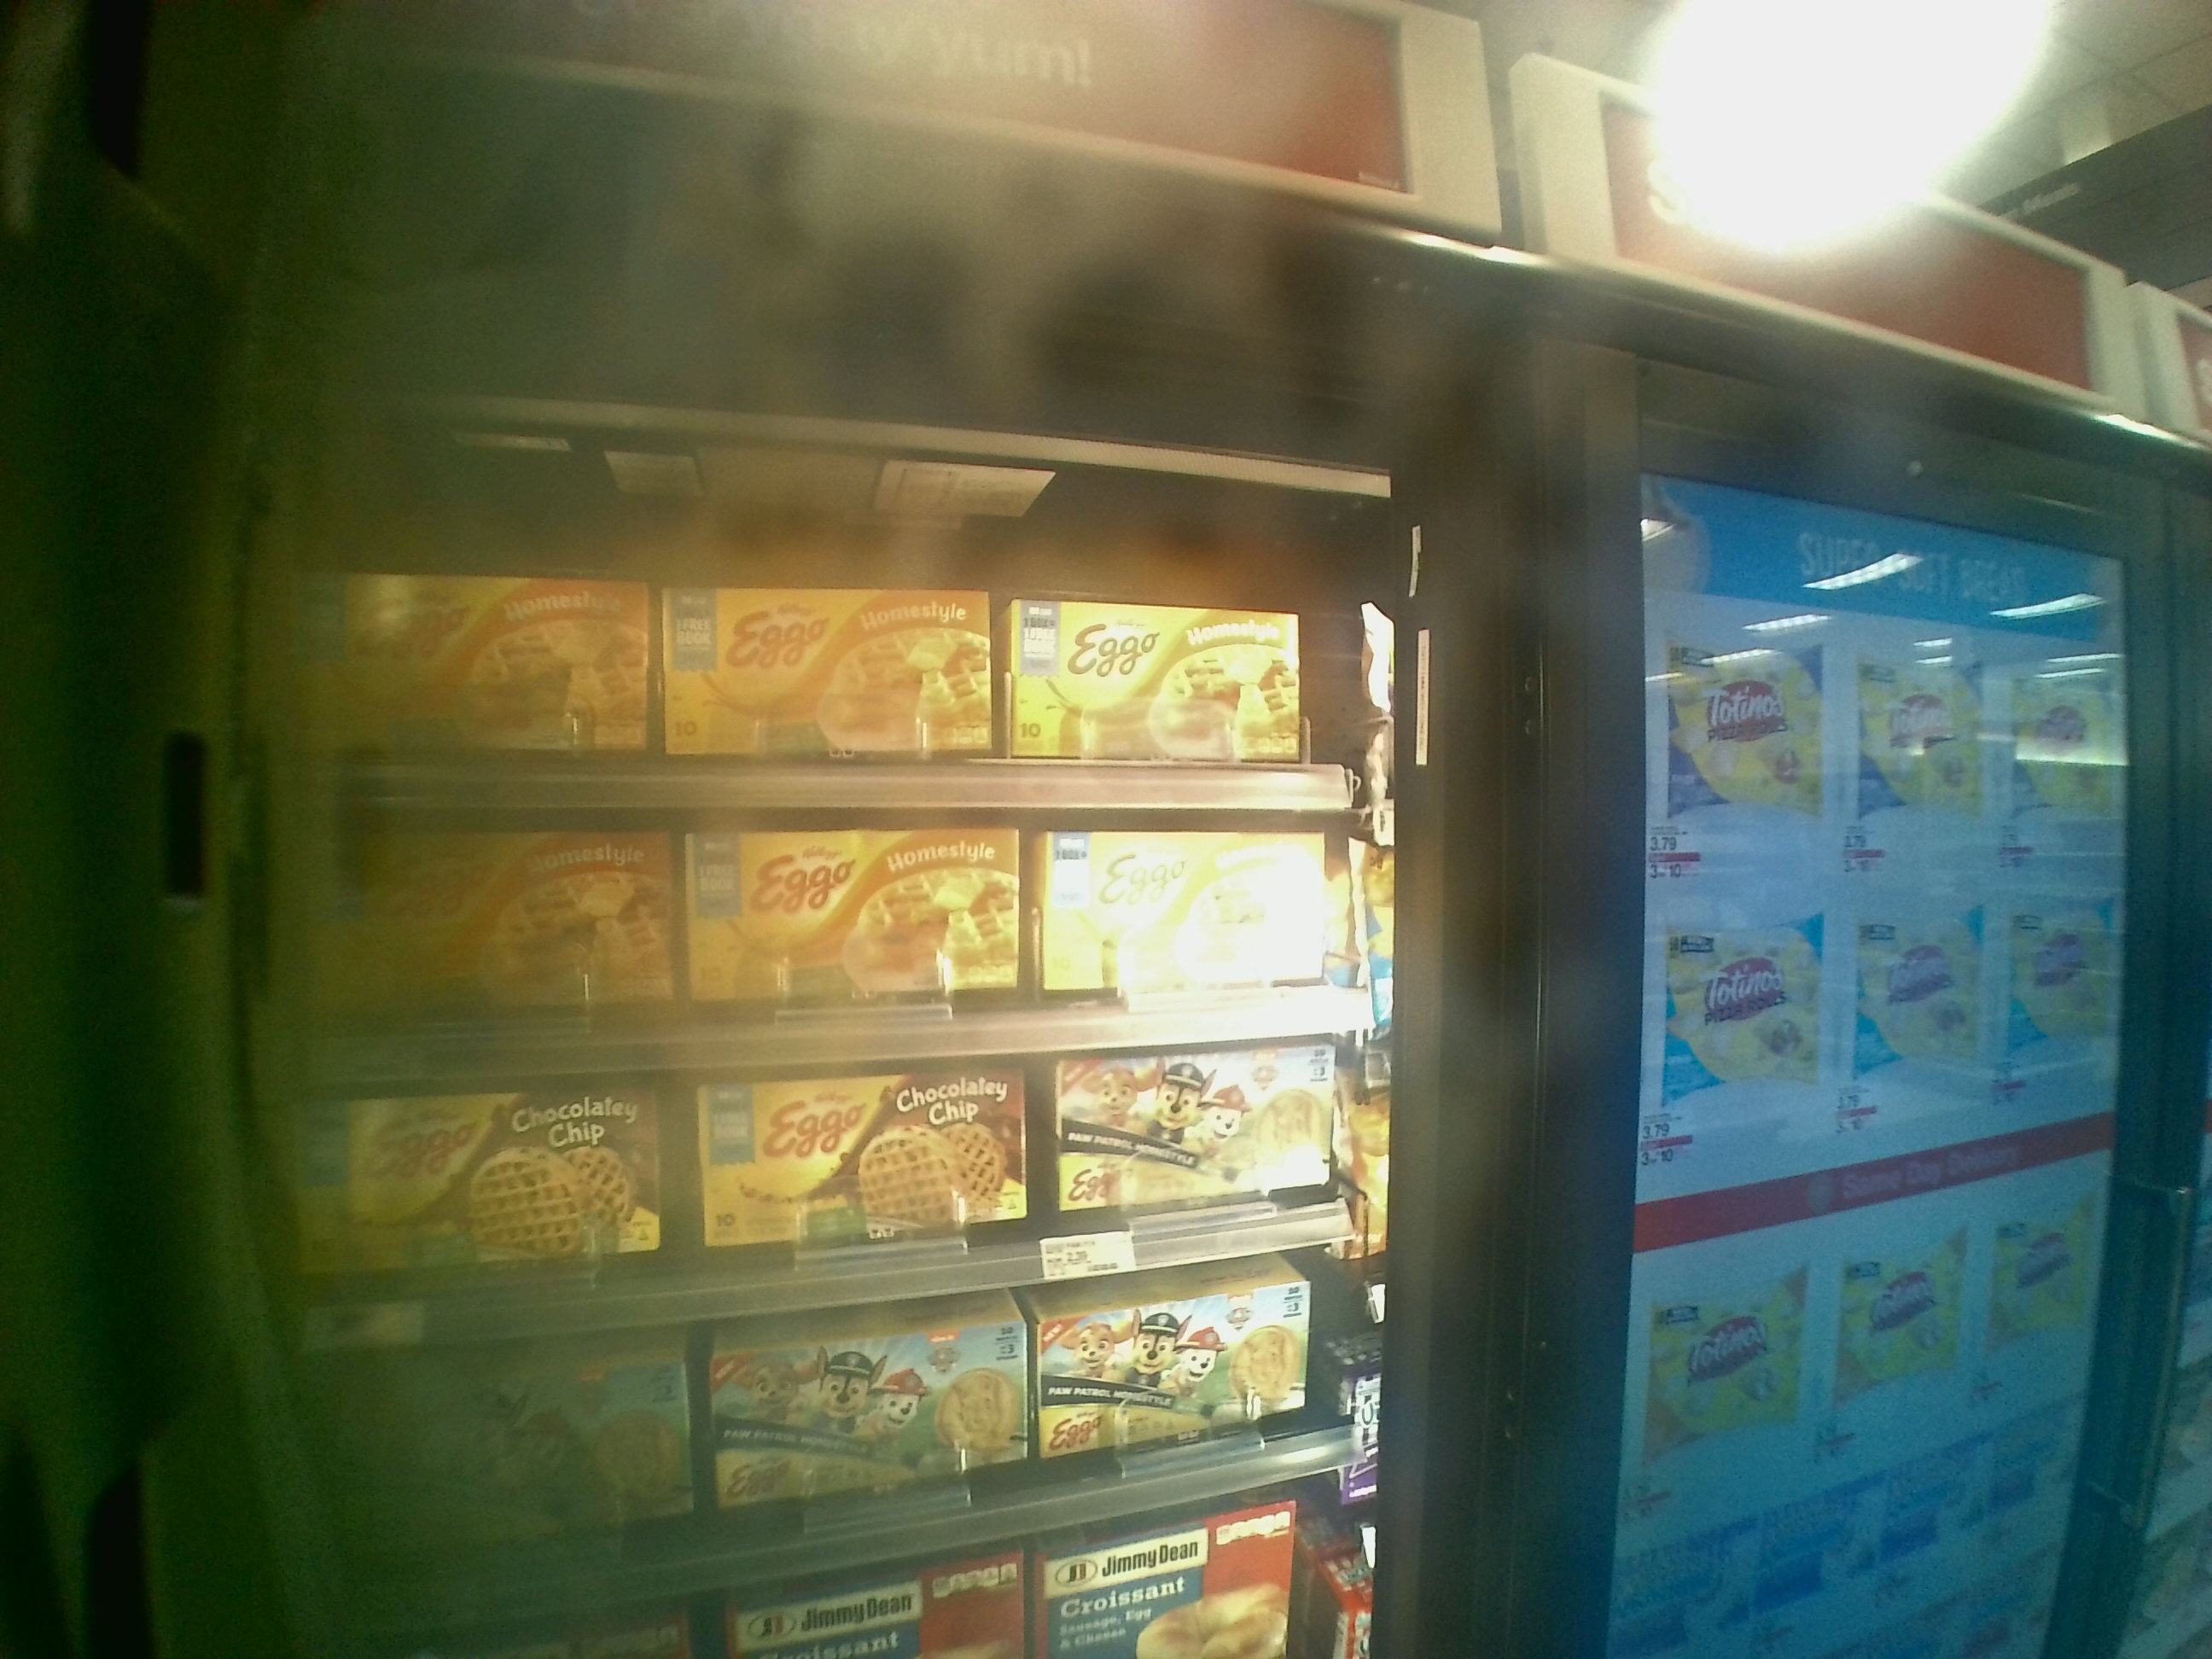shelf: (320, 502, 1385, 807), (315, 1047, 1379, 1344), (319, 802, 1395, 1086)
